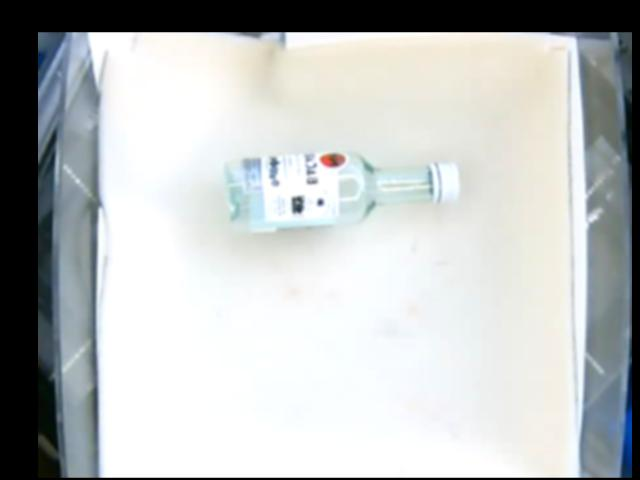Bottle: (224, 151, 461, 234)
